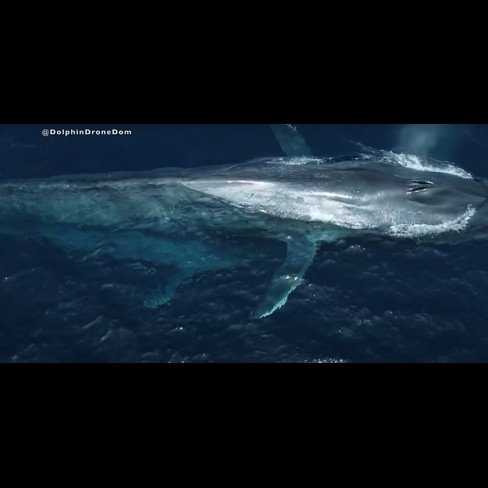bluewhale: (1, 124, 487, 324)
